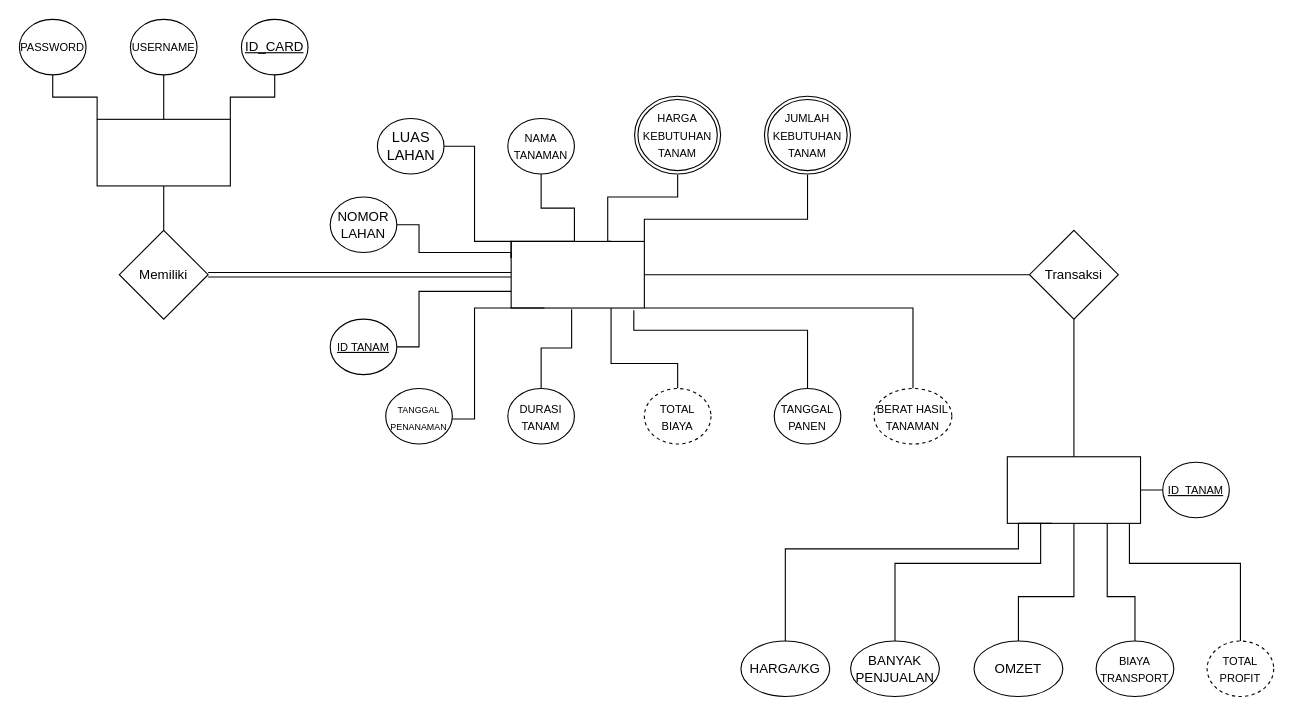
The diagram is 1293 pixels wide and 716 high, and some of its shapes have lost their labels. The centre of each missing label's shape, as x and y in pixels:
LOGIN: (x=163, y=152)
PENJUALAN: (x=1073, y=489)
PRODUKTIVITAS: (x=577, y=274)
